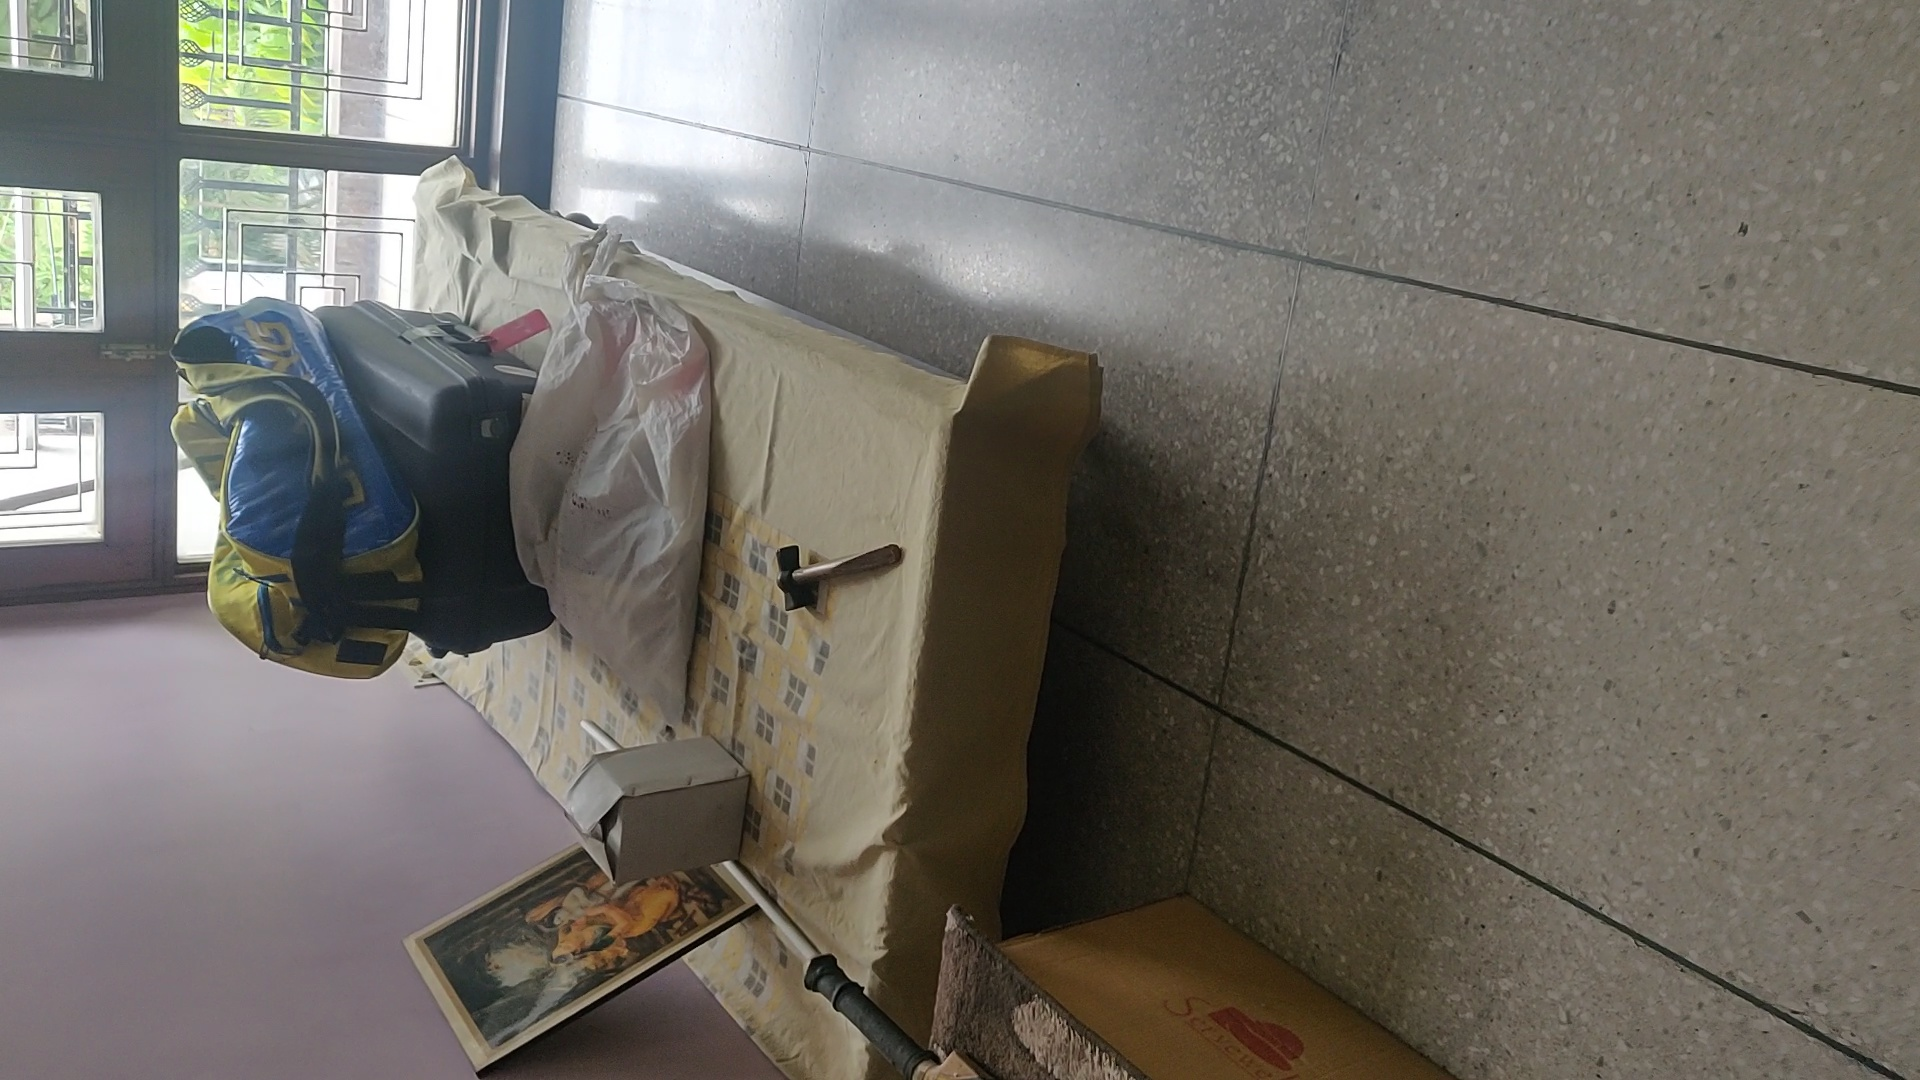hammer: (771, 542, 903, 612)
